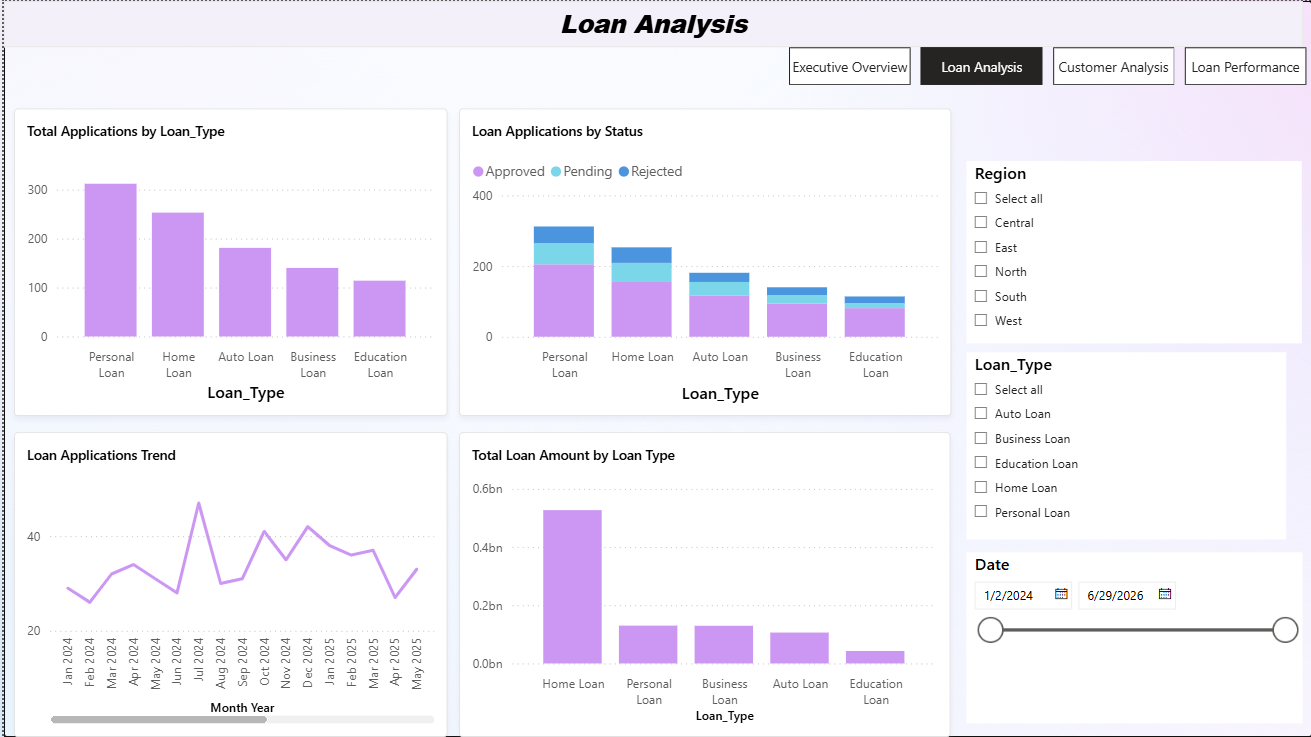

What the dashboard file says about the page in this screenshot:
{"tool":"powerbi","page":{"name":"Loan Analysis","canvas":[1280,720],"ordinal":1},"visuals":[{"type":"lineClusteredColumnComboChart","fields":{"Category":["Dim_Loantype.Loan_Type"],"Y":["Fact_Loans.Total Applications"]},"box":[9.8,105.2,424.3,300.8],"z":0},{"type":"lineChart","title":"Loan Applications Trend","fields":{"Y":["Fact_Loans.Total Applications"],"Category":["Dim_Date.Month Year"]},"box":[9.8,421.9,424.3,298.4],"z":1000},{"type":"lineStackedColumnComboChart","title":"Loan Applications by Status","fields":{"Category":["Dim_Loantype.Loan_Type"],"Y":["Fact_Loans.Total Applications"],"Series":["Fact_Loans.Application_Status"]},"box":[445.1,105.2,481.8,300.8],"z":2000},{"type":"slicer","fields":{"Values":["Dim_Loantype.Loan_Type"]},"box":[941.6,343.6,313,183.4],"z":3000},{"type":"slicer","fields":{"Values":["Dim_Branch.Region"]},"box":[941.6,156.5,327.7,178.5],"z":4000},{"type":"lineClusteredColumnComboChart","title":"Total Loan Amount by Loan Type","fields":{"Category":["Dim_Loantype.Loan_Type"],"Y":["Fact_Loans.Total Loan Amount"]},"box":[445.1,421.9,480.6,298.4],"z":5000},{"type":"slicer","fields":{"Values":["Dim_Date.Date"]},"box":[941.6,539.3,328,166],"z":6000},{"type":"textbox","box":[0,0,1270.5,45.2],"z":7000},{"type":"pageNavigator","box":[767.9,45.2,506.3,37.9],"z":7001}]}

Visuals, with their boxes in screenshot pixels (x1, y1, x2, y2), scaled from the page's 1280x720 canvas onto the 1311x737 screenshot:
lineClusteredColumnComboChart - Dim_Loantype.Loan_Type x Fact_Loans.Total Applications: 10/108/445/416
"Loan Applications Trend" lineChart: 10/432/445/736
"Loan Applications by Status" lineStackedColumnComboChart: 456/108/949/416
slicer - Dim_Loantype.Loan_Type: 964/352/1285/539
slicer - Dim_Branch.Region: 964/160/1300/343
"Total Loan Amount by Loan Type" lineClusteredColumnComboChart: 456/432/948/736
slicer - Dim_Date.Date: 964/552/1300/722
textbox: 0/0/1301/46
pageNavigator: 786/46/1305/85
